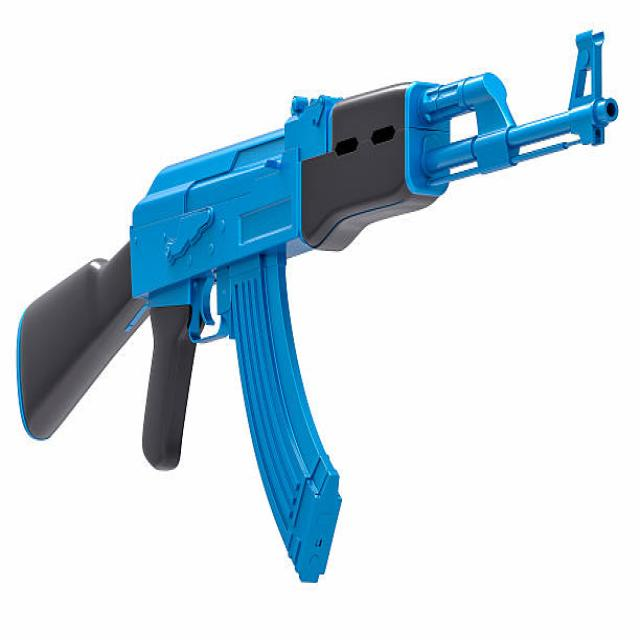rifle: (9, 22, 621, 588)
